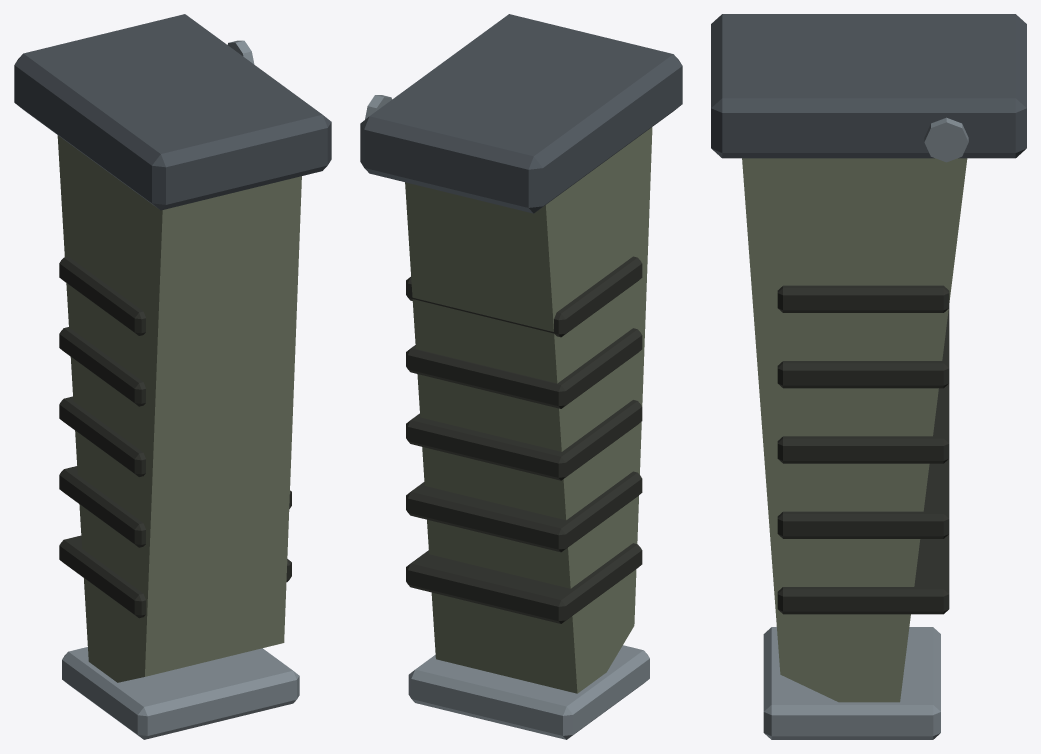
File: att_grip_keymod.glb
The picture shows the model from 3 angles, left to right: view 1: azimuth 30°, elevation 25°; view 2: azimuth 150°, elevation 25°; view 3: azimuth 270°, elevation 25°; orthographic projection. The views are drawn at different scales.
Visible parts, largest first — view 1: Geometry_att_grip_keymod; view 2: Geometry_att_grip_keymod; view 3: Geometry_att_grip_keymod.
Boxes of the visible parts, left/top/right/bottom form: Geometry_att_grip_keymod: left=14, top=14, right=331, bottom=739; Geometry_att_grip_keymod: left=360, top=14, right=682, bottom=739; Geometry_att_grip_keymod: left=711, top=14, right=1026, bottom=739.
Size of the model in its own units: 0.044 by 0.1285 by 0.057.
